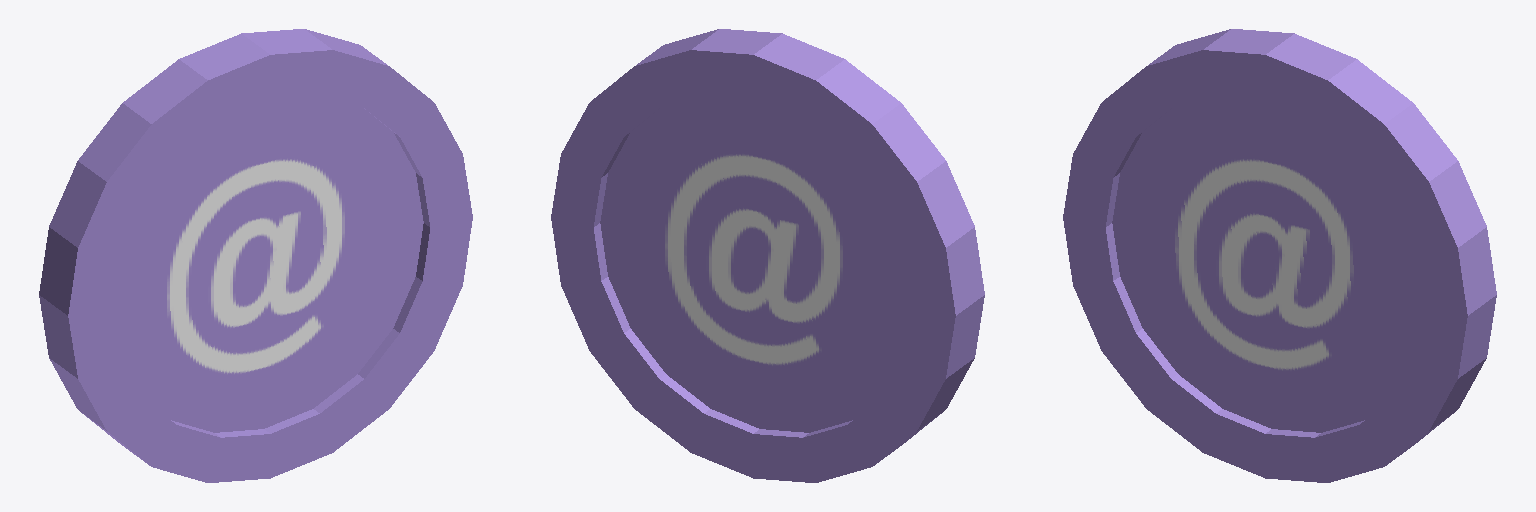
3 renders of one model, left to right at view 1: azimuth 30°, elevation 25°; view 2: azimuth 150°, elevation 25°; view 3: azimuth 330°, elevation 25°, orthographic.
Parts seen in each view (by area): view 1: Mail_Circle.001; view 2: Mail_Circle.001; view 3: Mail_Circle.001.
Part boxes in pixels (x1,y1,x2,y2): Mail_Circle.001: (39, 29, 472, 482); Mail_Circle.001: (551, 29, 984, 482); Mail_Circle.001: (1063, 29, 1496, 482).
Size of the model in its own units: 0.9997 by 0.9997 by 0.1249.
1 materials, 1 textured.